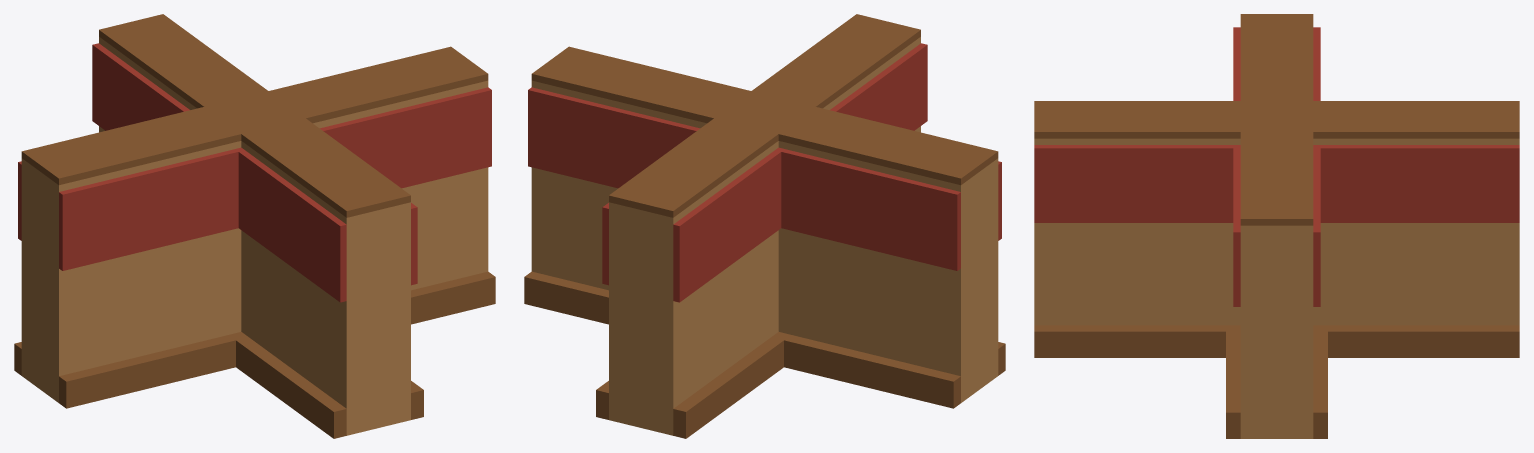
Rendered from partition-cross.glb.
3 renders of one model, left to right at view 1: azimuth 30°, elevation 25°; view 2: azimuth 150°, elevation 25°; view 3: azimuth 270°, elevation 25°, orthographic. The views are drawn at different scales.
Parts seen in each view (by area): view 1: partition-cross; view 2: partition-cross; view 3: partition-cross.
Part boxes in pixels (<box>): partition-cross: <box>14,14,495,438</box>; partition-cross: <box>524,14,1005,438</box>; partition-cross: <box>1034,14,1519,438</box>.
Bounding box in the file's own units: 1 × 0.5 × 1.
1 material, 1 textured.
